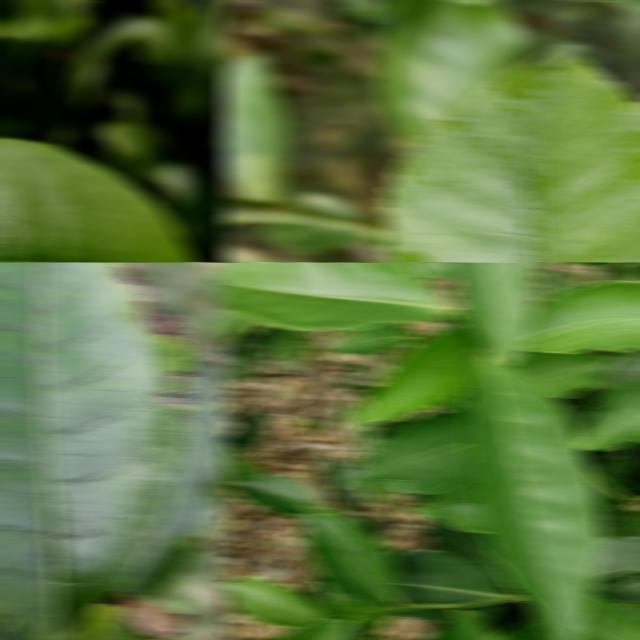Leaf: (0, 262, 193, 640), (381, 45, 640, 262), (462, 356, 605, 640), (121, 344, 228, 599), (0, 138, 198, 262), (372, 0, 527, 143), (220, 262, 450, 330), (349, 325, 486, 429), (334, 406, 474, 492), (220, 53, 291, 202), (443, 262, 539, 364), (518, 280, 640, 353), (388, 549, 511, 603), (72, 590, 191, 640), (220, 575, 323, 626), (509, 350, 617, 397), (575, 378, 640, 450), (407, 480, 488, 532), (228, 473, 325, 515), (223, 325, 289, 386), (588, 536, 640, 602), (572, 594, 640, 640), (326, 323, 414, 358), (589, 348, 640, 402), (316, 454, 364, 509), (594, 445, 635, 495), (229, 403, 269, 454), (442, 609, 495, 640), (591, 484, 626, 527), (315, 581, 354, 618), (599, 504, 640, 537), (539, 263, 576, 299), (278, 330, 306, 369), (224, 457, 264, 483), (220, 310, 250, 343), (488, 621, 540, 640), (401, 262, 454, 278), (340, 363, 373, 388), (466, 602, 507, 616), (408, 607, 451, 620), (220, 334, 240, 353)
